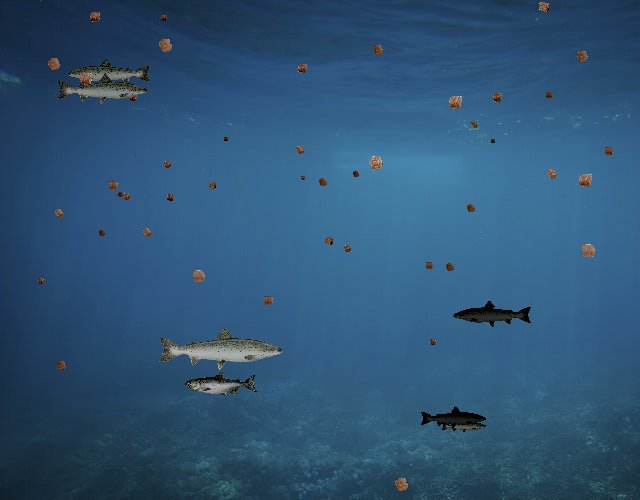Fish: (156, 325, 285, 371), (55, 73, 149, 107), (66, 57, 152, 88), (452, 299, 533, 329), (185, 372, 258, 398), (419, 405, 487, 430), (440, 417, 487, 434)
Pellet: (441, 88, 470, 117), (571, 167, 599, 195), (570, 44, 594, 68), (292, 58, 313, 79), (461, 199, 480, 218), (339, 241, 356, 258), (426, 335, 440, 349), (34, 274, 48, 288)
